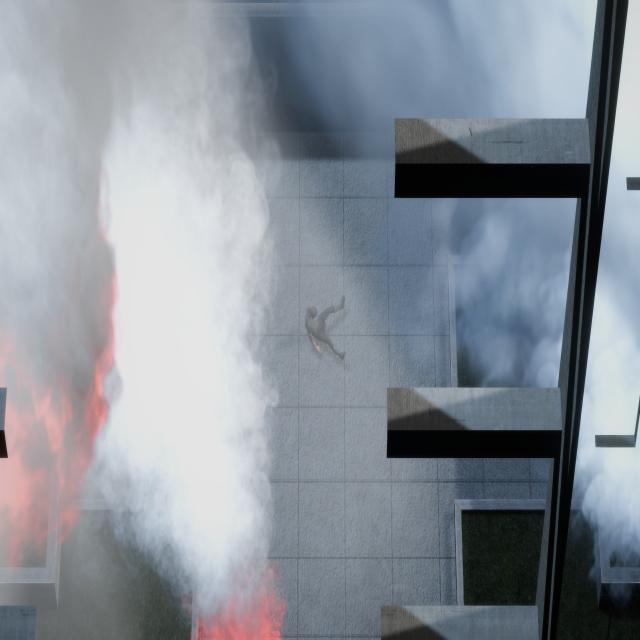Human: (301, 280, 358, 370)
